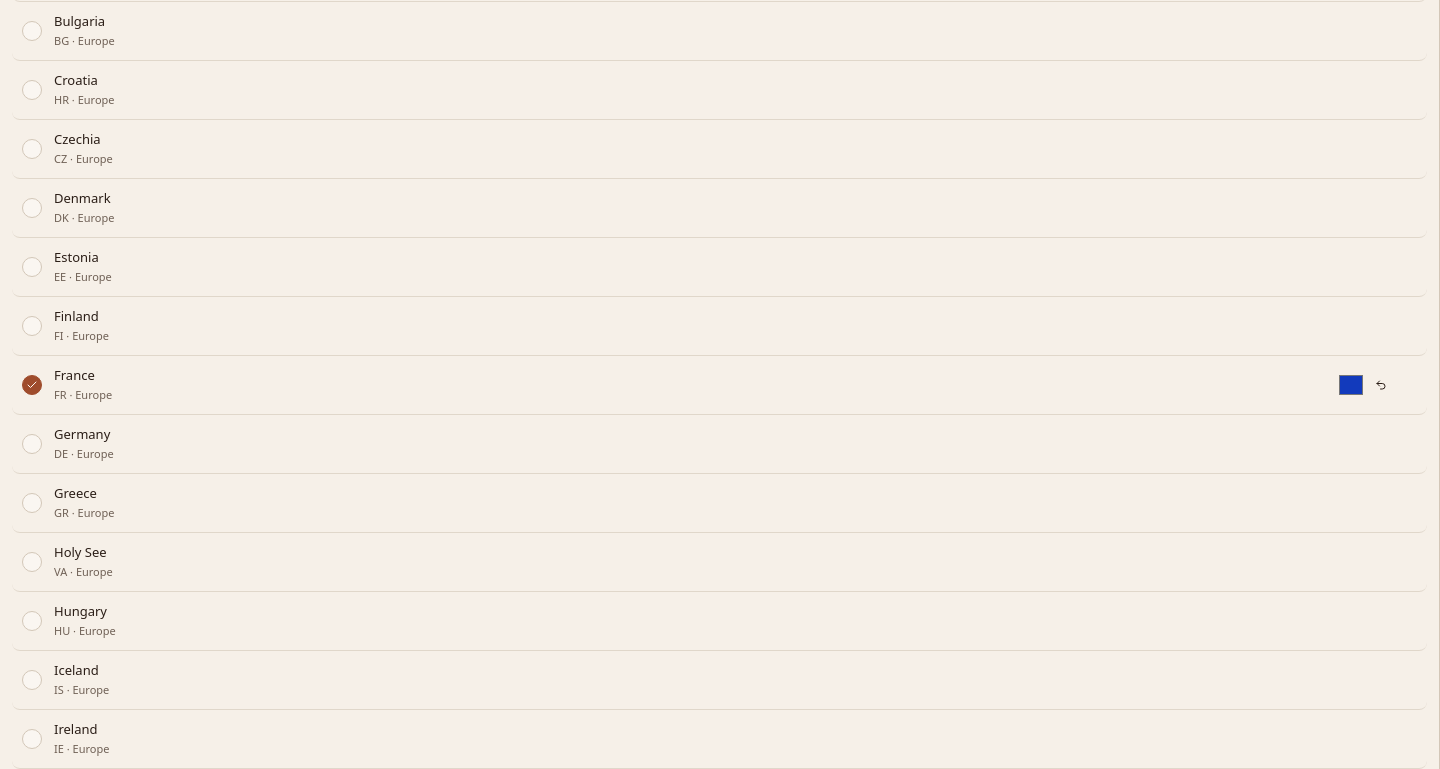
custom color control › returns to the inherited color when the custom one is cleared
(page scrolled)
Check: the colour field named "Custom color for France" holds "#123abc", box 1337,370 -> 1365,398
Click the button named "Use the inherited color for France".
click(1381, 384)  # box 1369,372 -> 1393,396
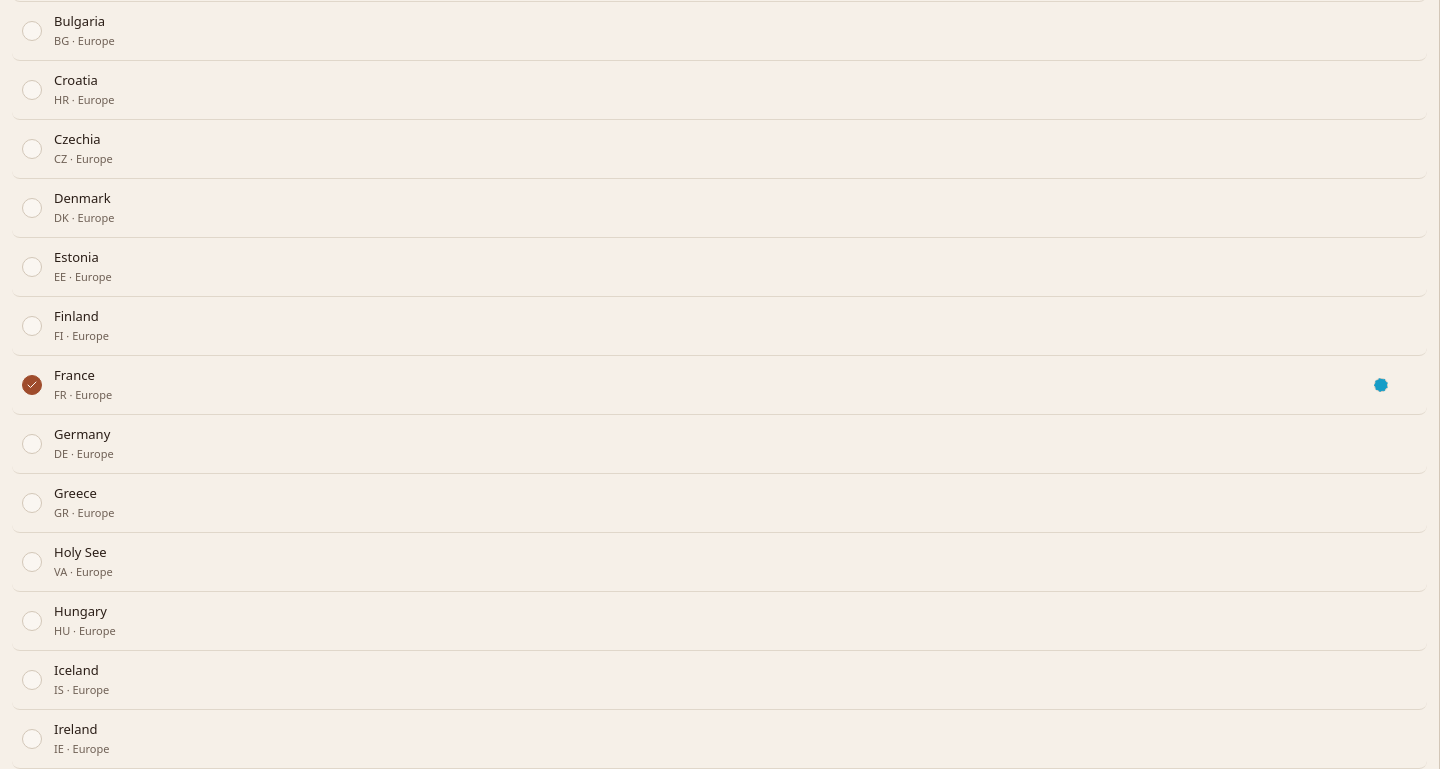
Check: the button named "currently inherited" is shown, box 1369,372 -> 1393,396
